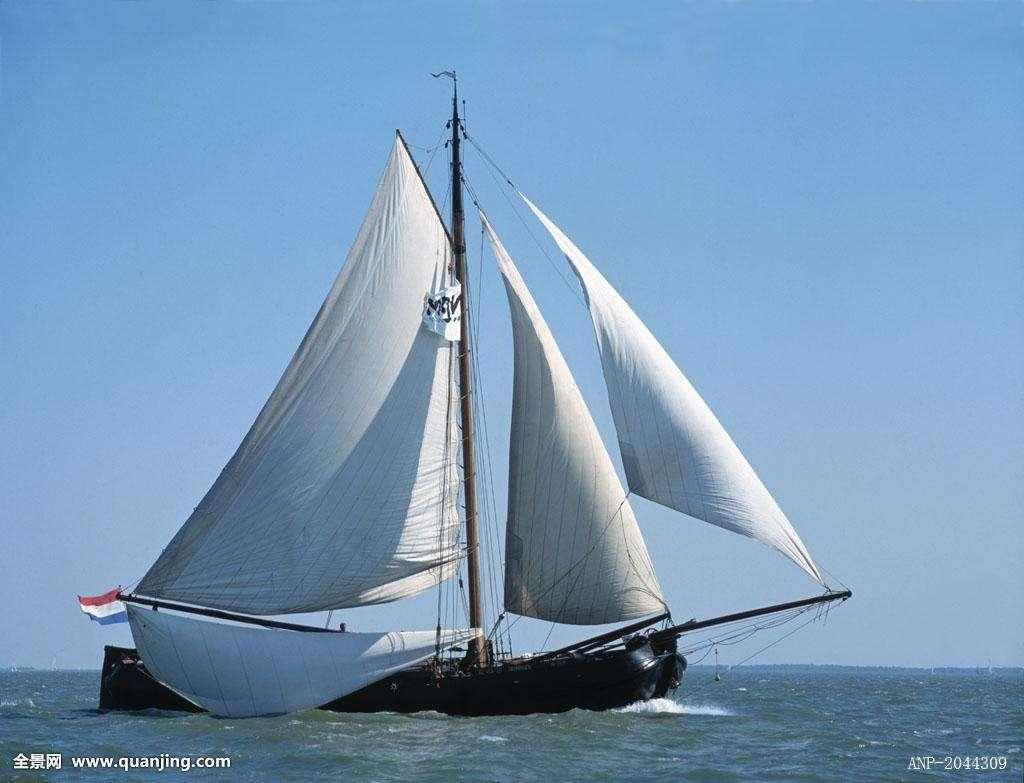fanchuan: (73, 58, 854, 719)
